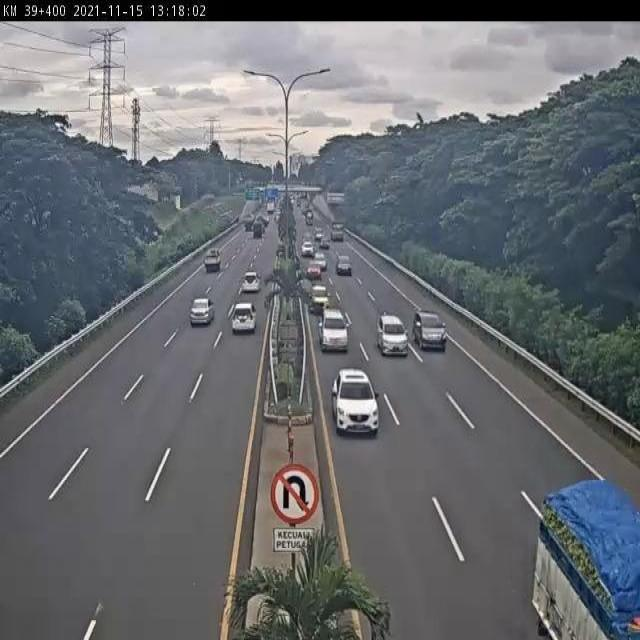Car: (332, 367, 379, 436), (412, 310, 448, 351), (376, 312, 409, 356), (319, 308, 350, 352), (230, 301, 258, 333), (189, 297, 215, 326), (309, 283, 329, 314), (203, 248, 222, 272), (241, 271, 261, 293), (336, 255, 352, 276), (306, 263, 322, 280), (301, 241, 315, 257), (319, 236, 330, 249), (315, 230, 324, 243)
Truck: (535, 474, 640, 640), (331, 223, 344, 242), (306, 211, 313, 225)
